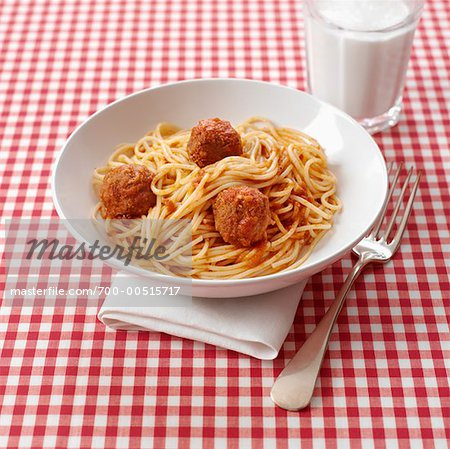glass of milk: (308, 4, 413, 145)
meatballs: (106, 167, 154, 217), (188, 116, 240, 162), (214, 187, 264, 234)
plain spaghetti: (89, 117, 341, 279)
